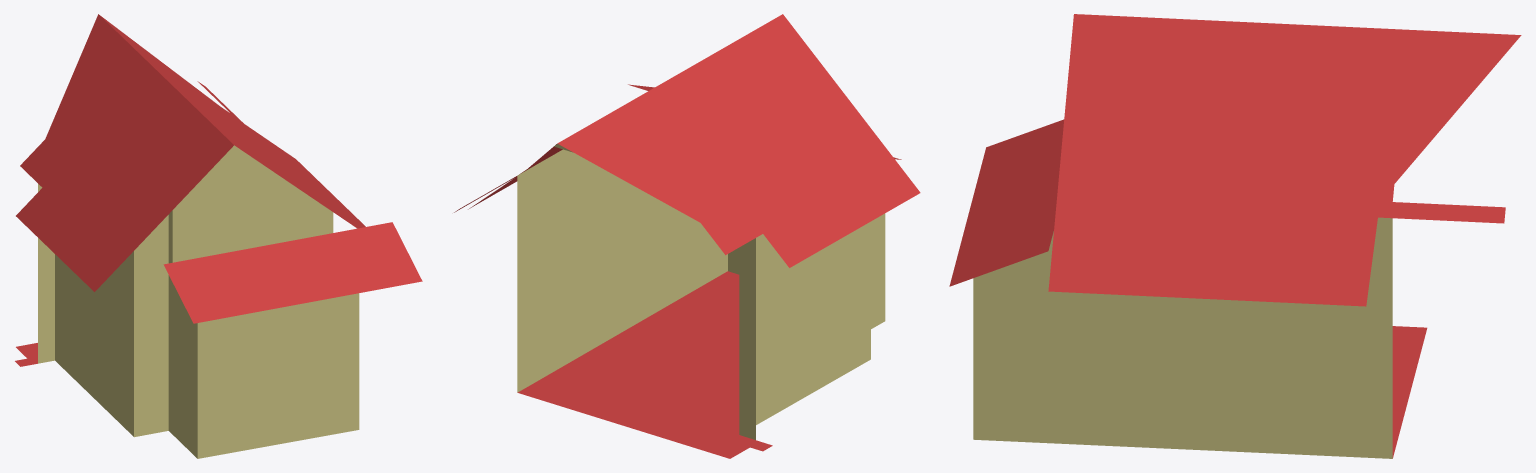
The picture shows the model from 3 angles, left to right: view 1: azimuth 30°, elevation 25°; view 2: azimuth 150°, elevation 25°; view 3: azimuth 270°, elevation 25°; orthographic projection. The views are drawn at different scales.
Bounding box in the file's own units: 17.36 × 21.38 × 15.23.
